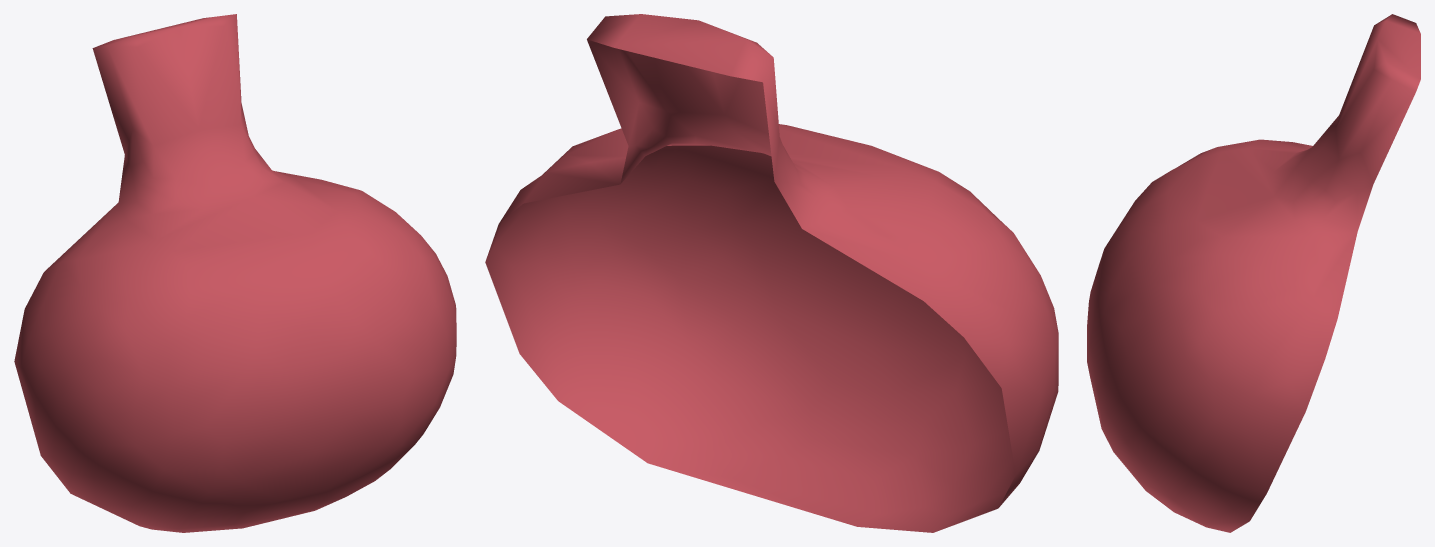
The model's file is visceras-adenohypophysis.glb.
3 renders of one model, left to right at view 1: azimuth 30°, elevation 25°; view 2: azimuth 150°, elevation 25°; view 3: azimuth 270°, elevation 25°, orthographic. The views are drawn at different scales.
Visible parts, largest first — view 1: Adenohypophysis; view 2: Adenohypophysis; view 3: Adenohypophysis.
Boxes of the visible parts, bbox=[...] form: Adenohypophysis: bbox=[14, 14, 456, 532]; Adenohypophysis: bbox=[485, 14, 1058, 532]; Adenohypophysis: bbox=[1087, 14, 1420, 532].
Size of the model in its own units: 0.0119 by 0.012 by 0.00809.
